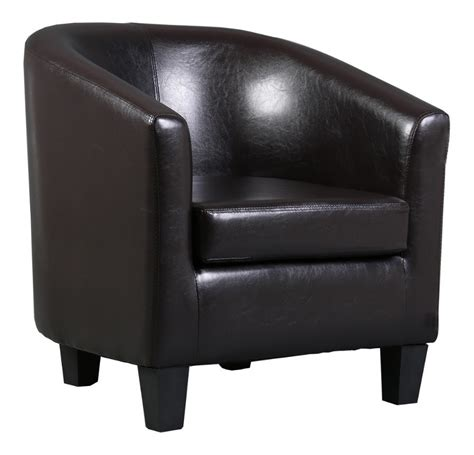cuero: (23, 21, 442, 368)
